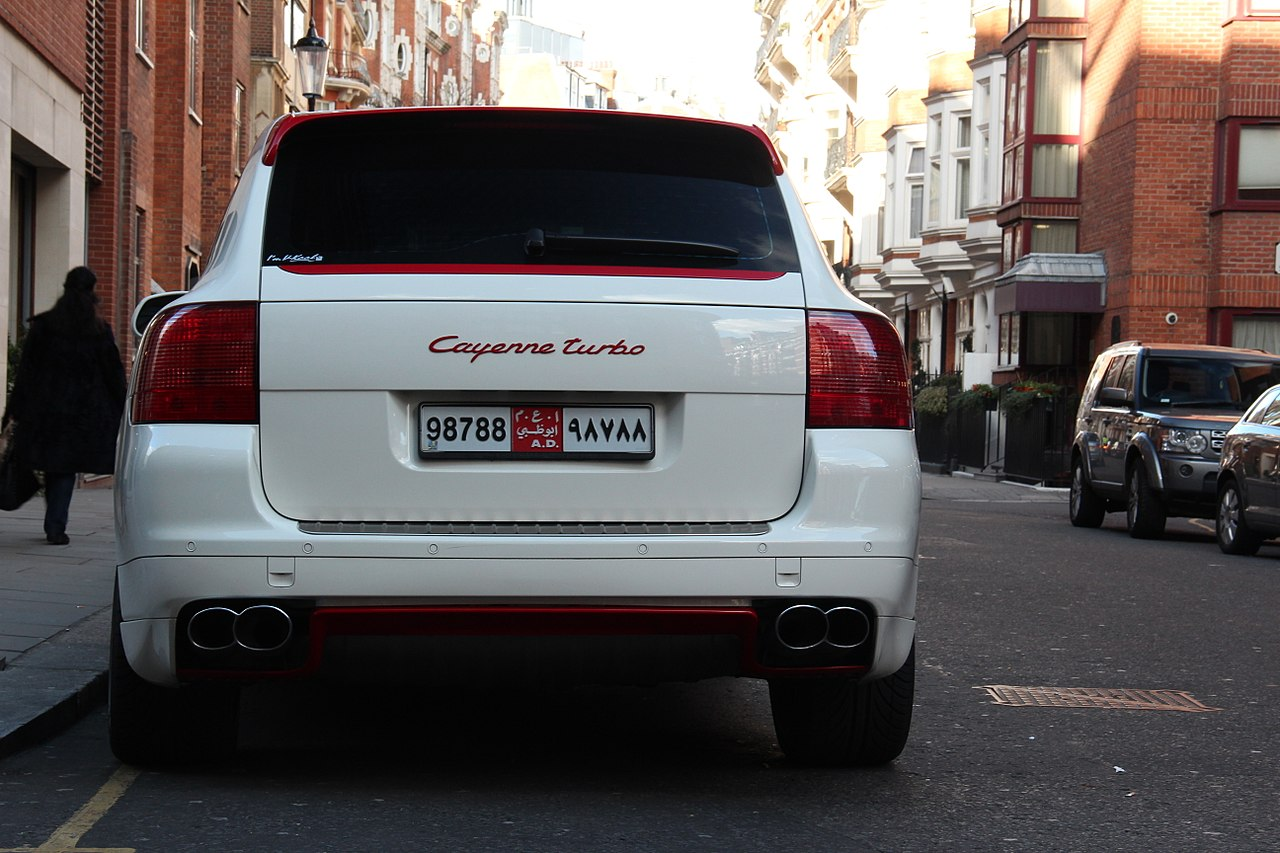plate: (417, 402, 655, 464)
